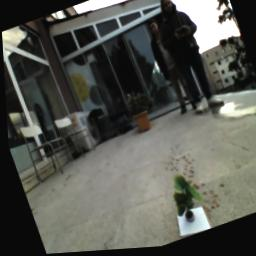herb: (163, 172, 206, 226)
